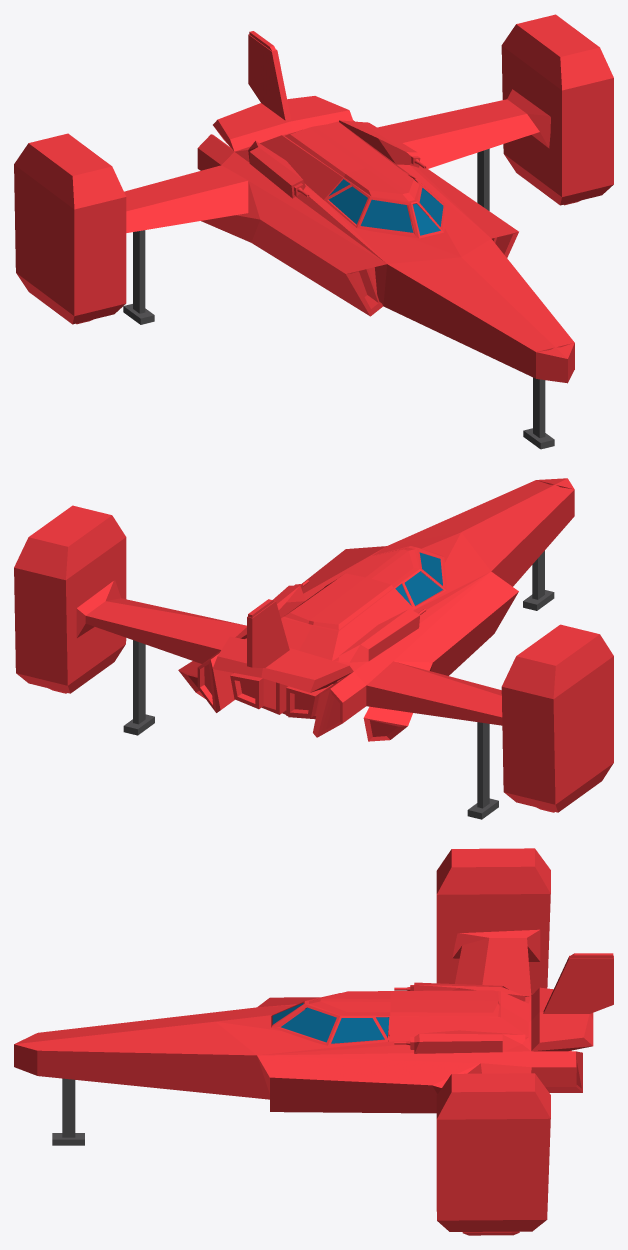
File: ship.fbx
The picture shows the model from 3 angles, top to bottom: view 1: azimuth 30°, elevation 25°; view 2: azimuth 150°, elevation 25°; view 3: azimuth 270°, elevation 25°; orthographic projection. The views are drawn at different scales.
Parts seen in each view (by area): view 1: Body, ThrusterL, ThrusterR, Hatch, Glass, LandingGearR, LandingGearf, LandingGearL; view 2: Body, ThrusterL, ThrusterR, Hatch, LandingGearR, LandingGearL, Glass, LandingGearf; view 3: Body, ThrusterR, ThrusterL, Hatch, Glass, LandingGearf.
Part boxes in pixels (x1=…): Body: x1=124, y1=31, x2=574, y2=383; ThrusterL: x1=14, y1=133, x2=126, y2=324; ThrusterR: x1=501, y1=14, x2=613, y2=205; Hatch: x1=324, y1=162, x2=446, y2=238; Glass: x1=328, y1=179, x2=443, y2=235; LandingGearR: x1=123, y1=230, x2=154, y2=324; LandingGearf: x1=523, y1=377, x2=554, y2=449; LandingGearL: x1=477, y1=148, x2=489, y2=210; Body: x1=76, y1=478, x2=574, y2=741; ThrusterL: x1=501, y1=624, x2=613, y2=812; ThrusterR: x1=14, y1=505, x2=126, y2=693; Hatch: x1=326, y1=546, x2=446, y2=609; LandingGearR: x1=467, y1=722, x2=498, y2=819; LandingGearL: x1=123, y1=640, x2=154, y2=735; Glass: x1=395, y1=552, x2=442, y2=605; LandingGearf: x1=523, y1=550, x2=554, y2=610; Body: x1=14, y1=929, x2=613, y2=1113; ThrusterR: x1=436, y1=1073, x2=550, y2=1235; ThrusterL: x1=436, y1=848, x2=550, y2=995; Hatch: x1=271, y1=991, x2=390, y2=1045; Glass: x1=272, y1=1003, x2=389, y2=1043; LandingGearf: x1=52, y1=1078, x2=84, y2=1145.
Size of the model in its own units: 1881 by 663 by 1917.
